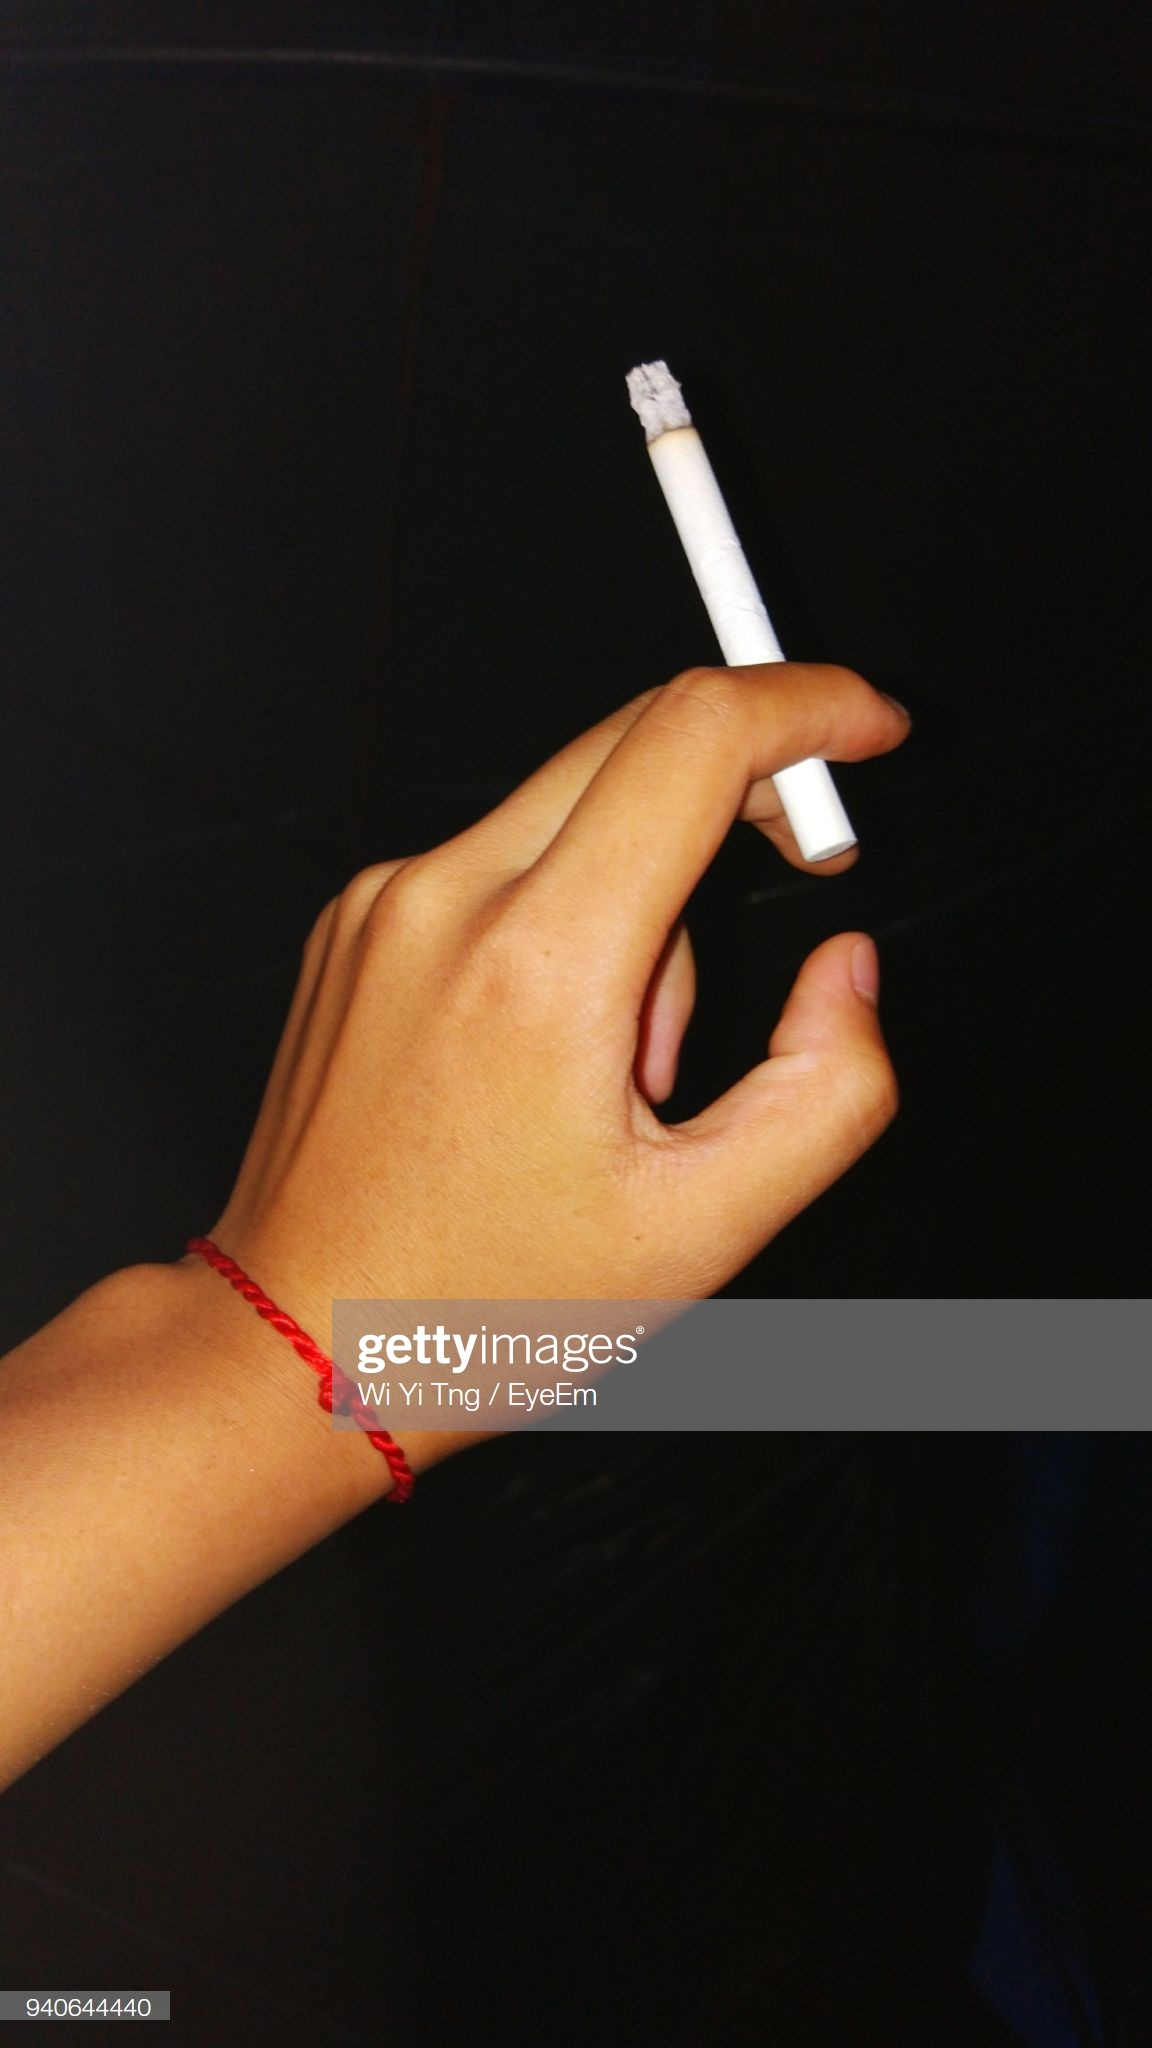sigaretta: (612, 361, 865, 879)
